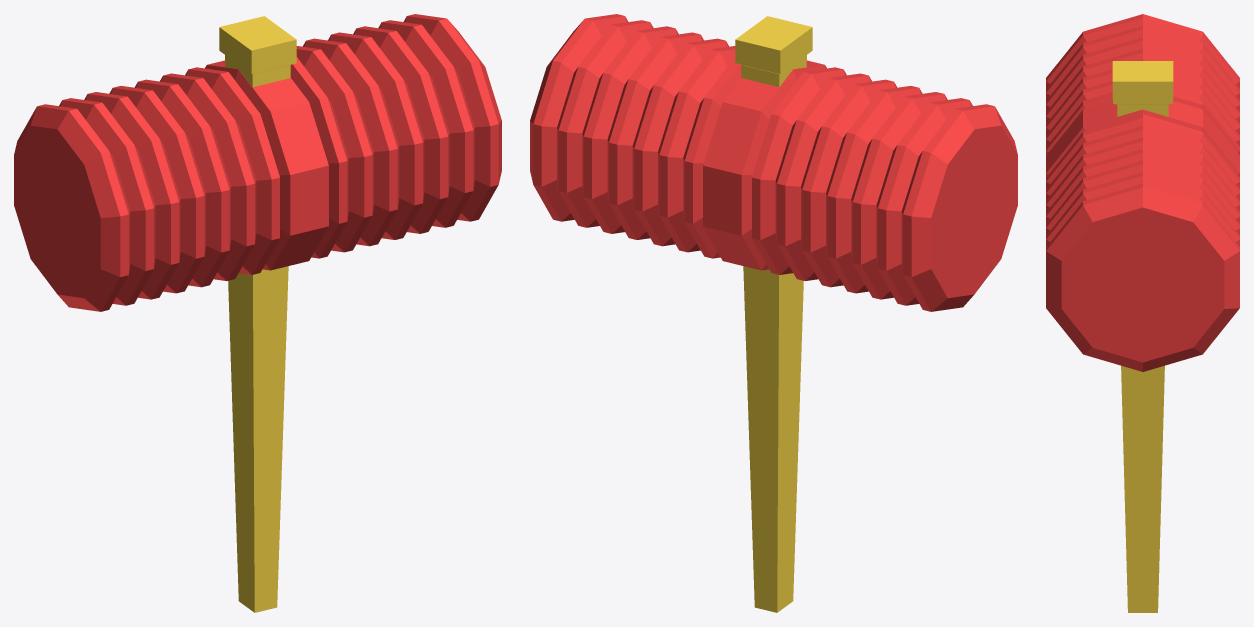
The model's file is toy_hammer_0412.fbx.
The picture shows the model from 3 angles, left to right: view 1: azimuth 30°, elevation 25°; view 2: azimuth 150°, elevation 25°; view 3: azimuth 270°, elevation 25°; orthographic projection. The views are drawn at different scales.
Visible parts, largest first — view 1: Box002; view 2: Box002; view 3: Box002.
Part boxes in pixels (x1,y1,x2,y2): Box002: (14, 14, 501, 612); Box002: (530, 14, 1017, 612); Box002: (1046, 14, 1239, 612).
Bounding box in the file's own units: 18.92 × 25.74 × 8.43.
Materials: 1 (1 with a texture image).
